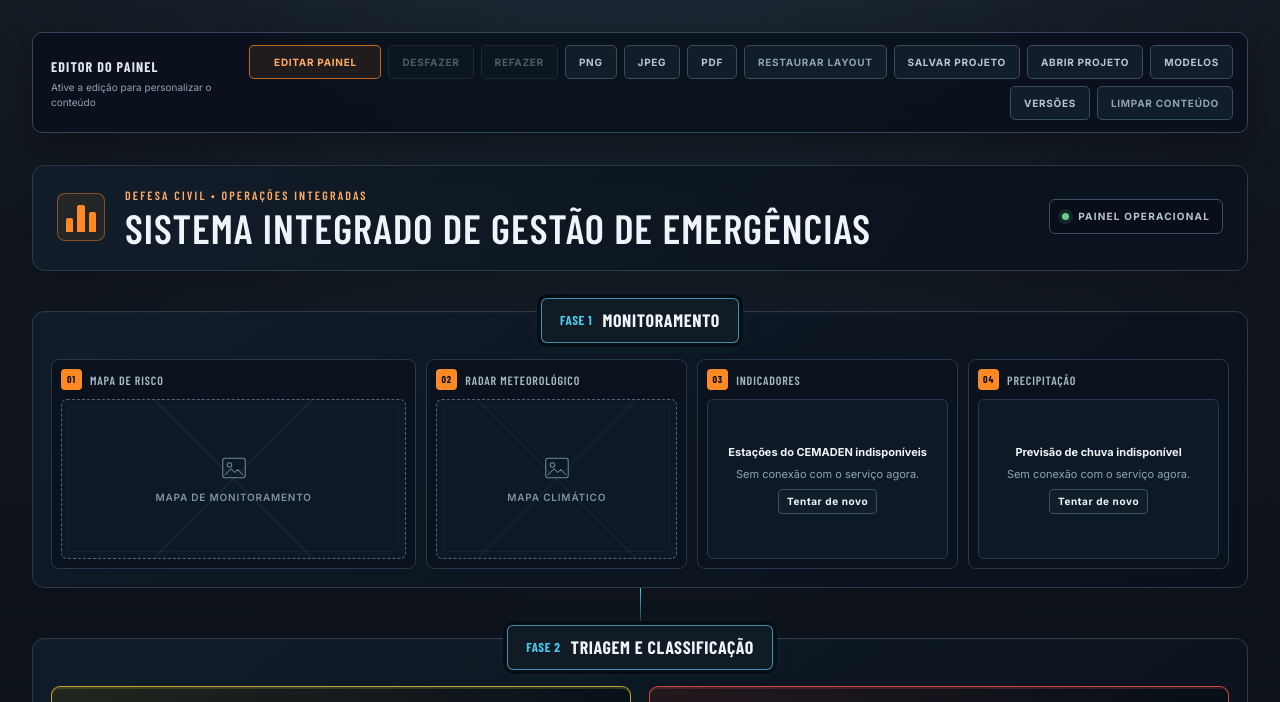
versões do projeto › fecha com Esc
Click the button "VERSÕES": [1050, 103] box [1010,86,1090,120]
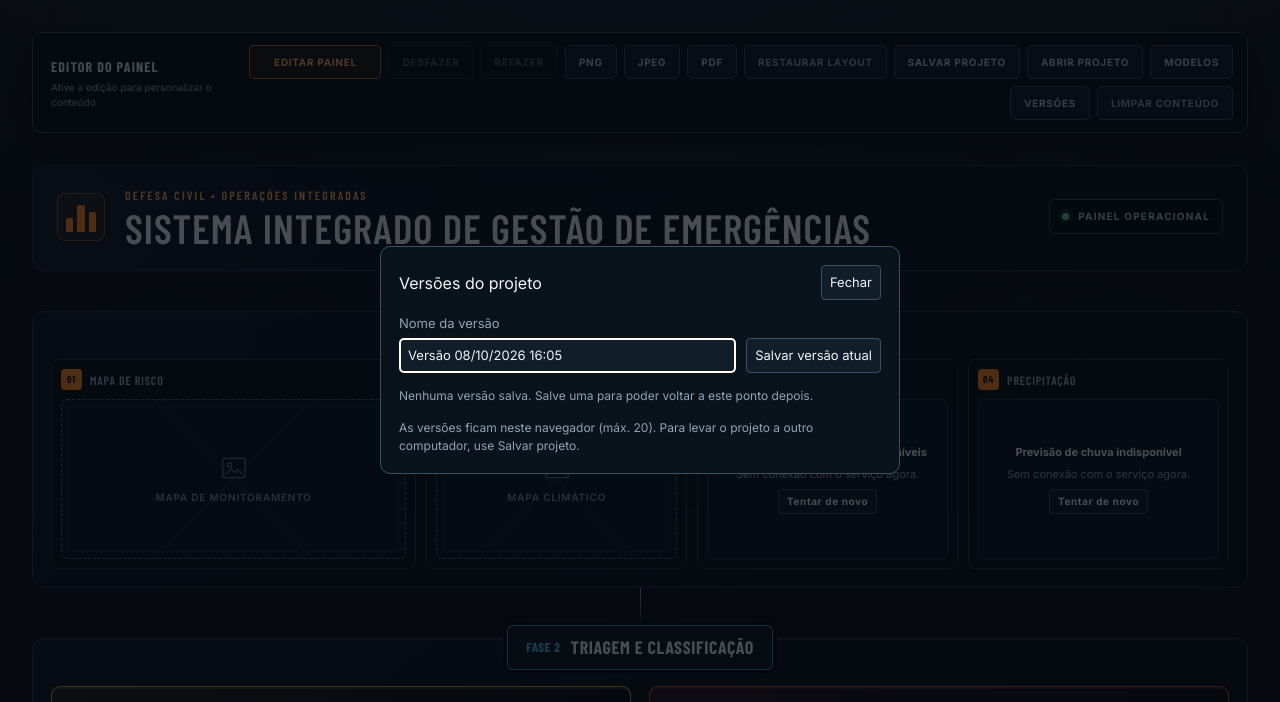
Press Escape
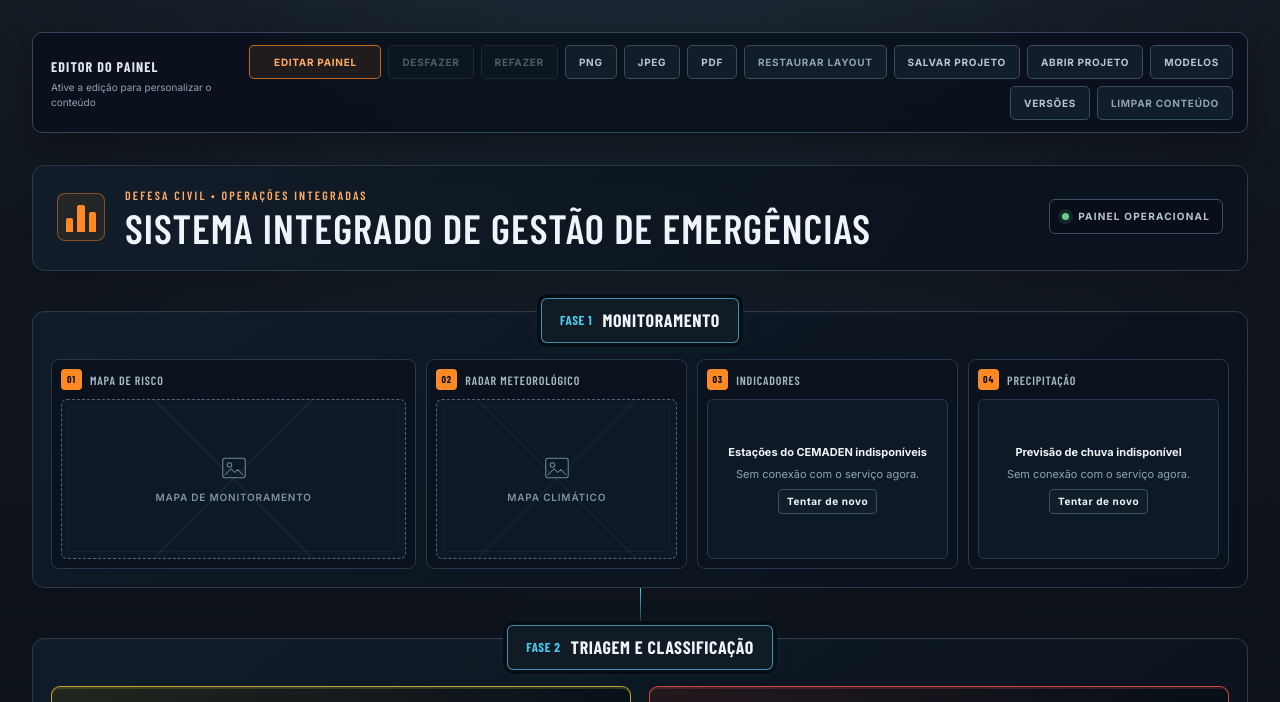
Result: the dialog is gone
